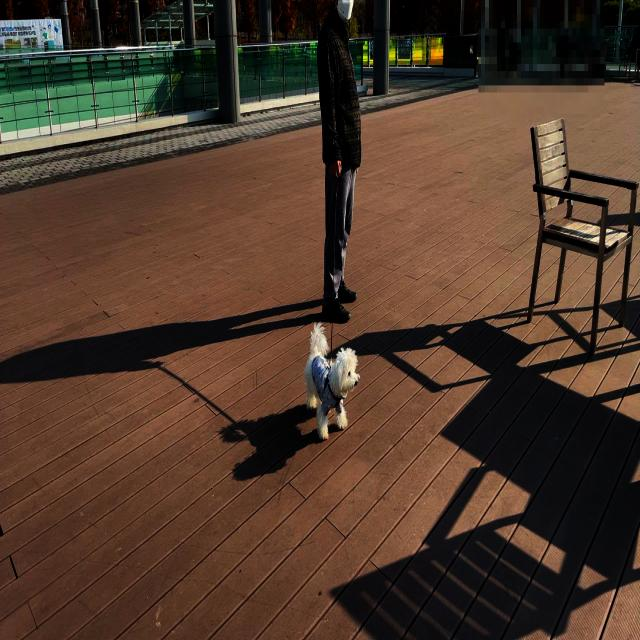Leashed_Dog: (304, 146, 360, 444)
